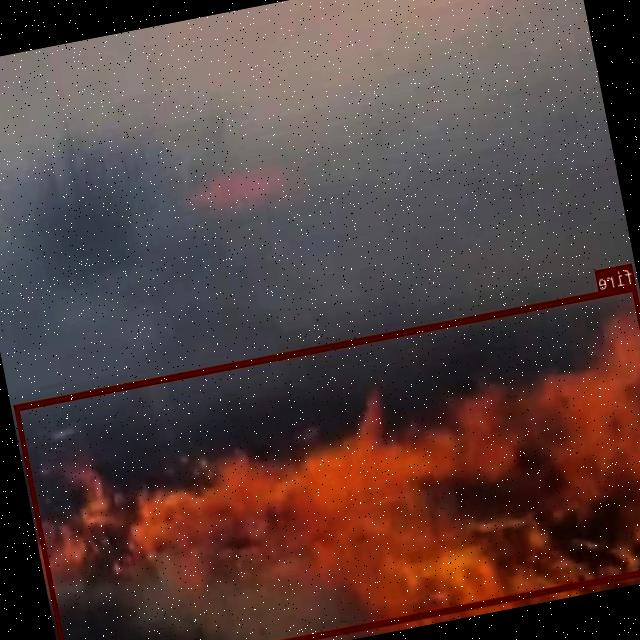fire: (15, 283, 640, 640)
